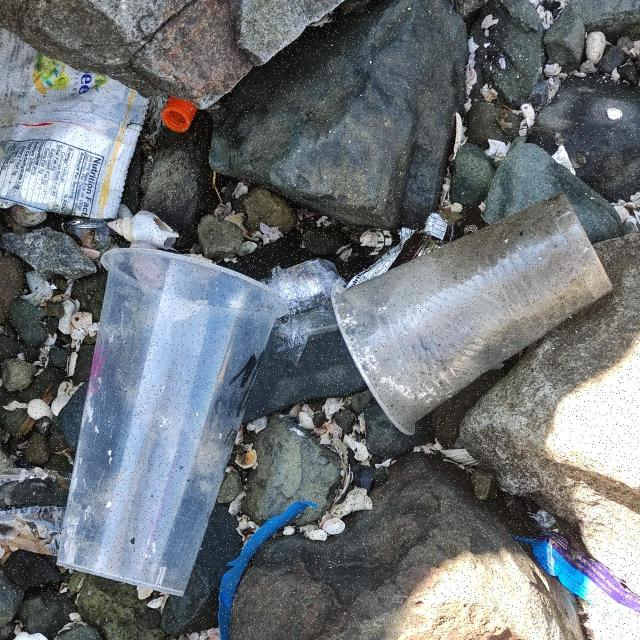plastic_waste: (55, 246, 289, 599), (326, 211, 614, 436), (4, 27, 154, 220), (162, 96, 199, 134)
